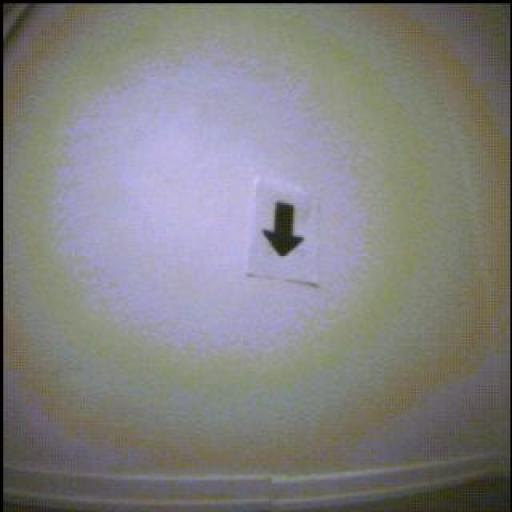arrow: (263, 203, 305, 257)
